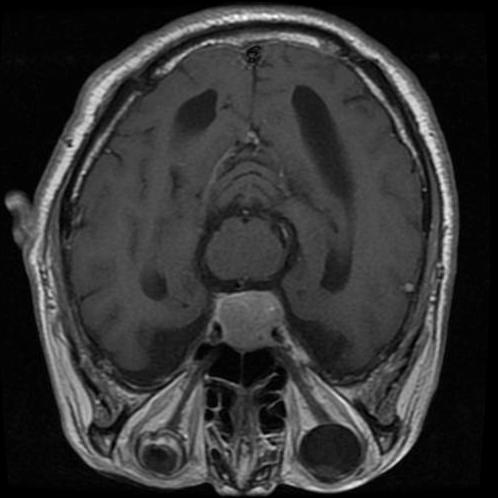Tumour-Pituitary: (200, 283, 294, 349)
